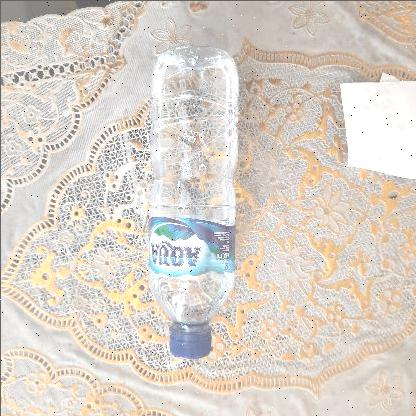Plastic Bottle: (145, 42, 239, 360)
